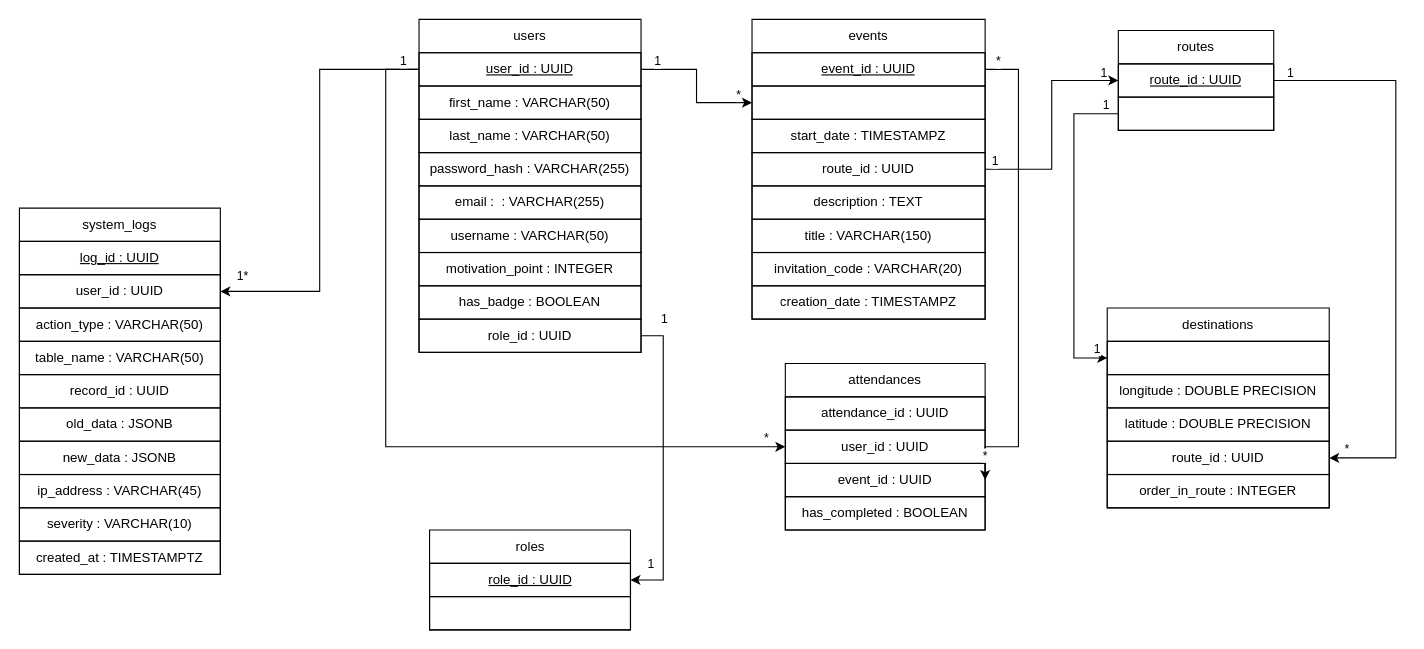
This 1424x649 diagram has some shape labels left out. Each missing label, with the centre of its shape:
"creator_id : UUID" goes at pixel 868 102.
"destination_id : UUID" goes at pixel 1217 357.
"distance : INTEGER" goes at pixel 1195 113.
"role_name : VARCHAR(20)" goes at pixel 529 613.
